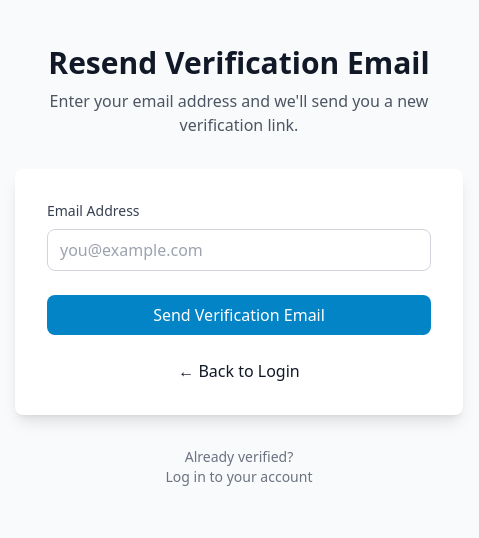
Scenario: ResendVerificationPage › should show error on failed submission
Type "nonexistent@example.com" into the field labelled "Email Address" at (239,250), box [47,229,431,271]
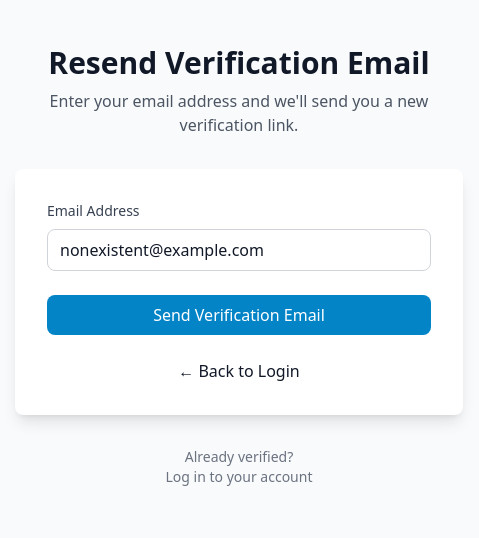
Click the button "Send Verification Email" at (239,315), box [47,295,431,335]
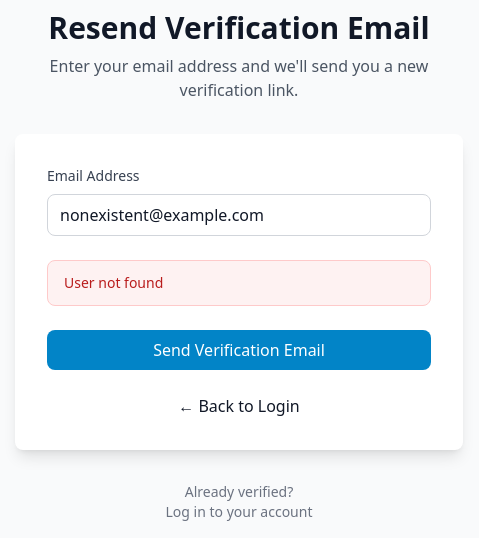
expect the text "User not found" is shown: met, box [64,273,163,292]
